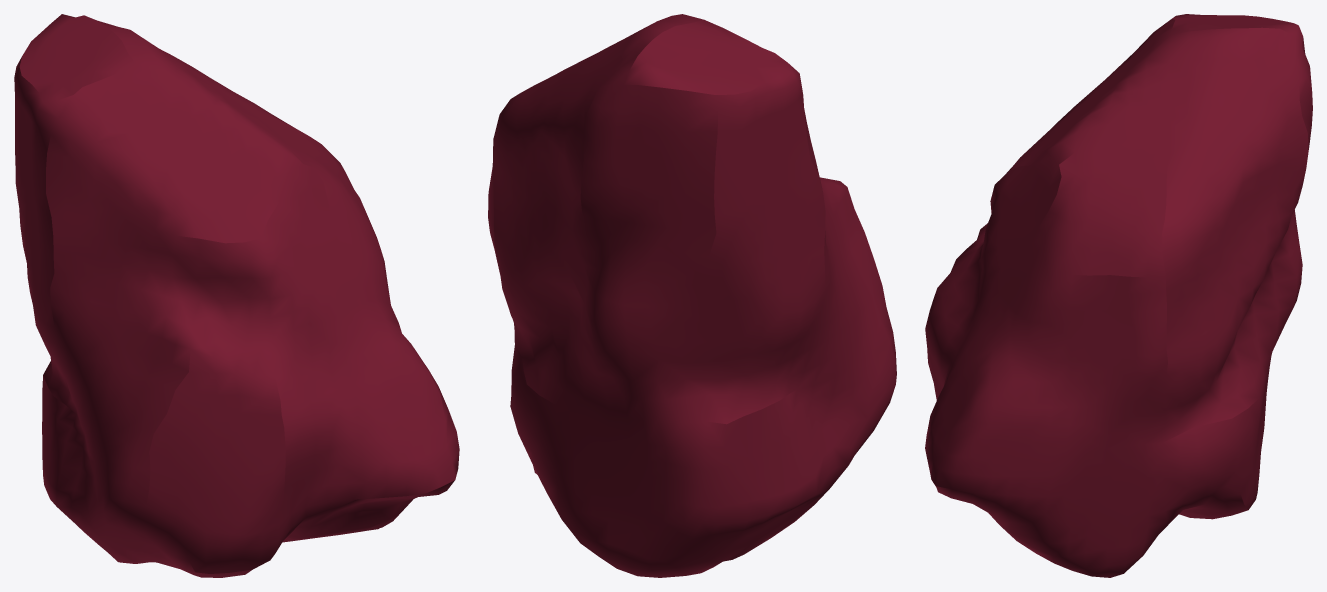
3 views of the same model, side by side, from view 1: azimuth 30°, elevation 25°; view 2: azimuth 150°, elevation 25°; view 3: azimuth 270°, elevation 25° (orthographic). The views are drawn at different scales.
Parts seen in each view (by area): view 1: rock_1; view 2: rock_1; view 3: rock_1.
Boxes of the visible parts, box(x1,y1,x2,y2) form: rock_1: box(14, 14, 459, 577); rock_1: box(488, 14, 896, 577); rock_1: box(925, 14, 1312, 577).
Size of the model in its own units: 398 by 597 by 441.
